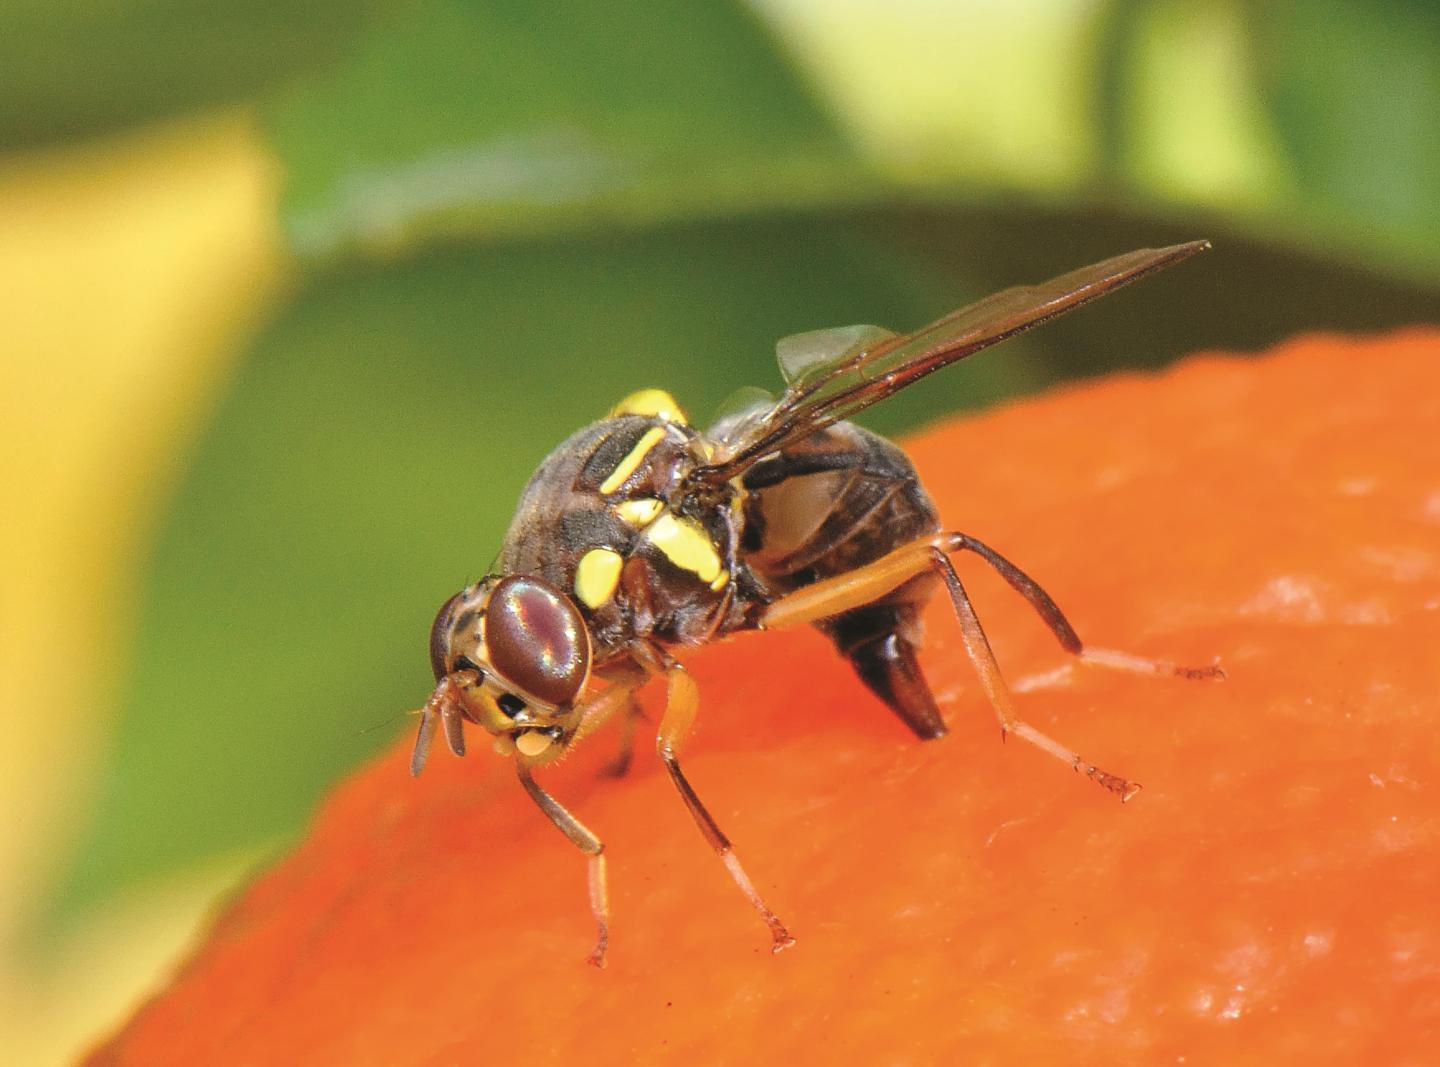Fruit fly: (413, 309, 1128, 930)
